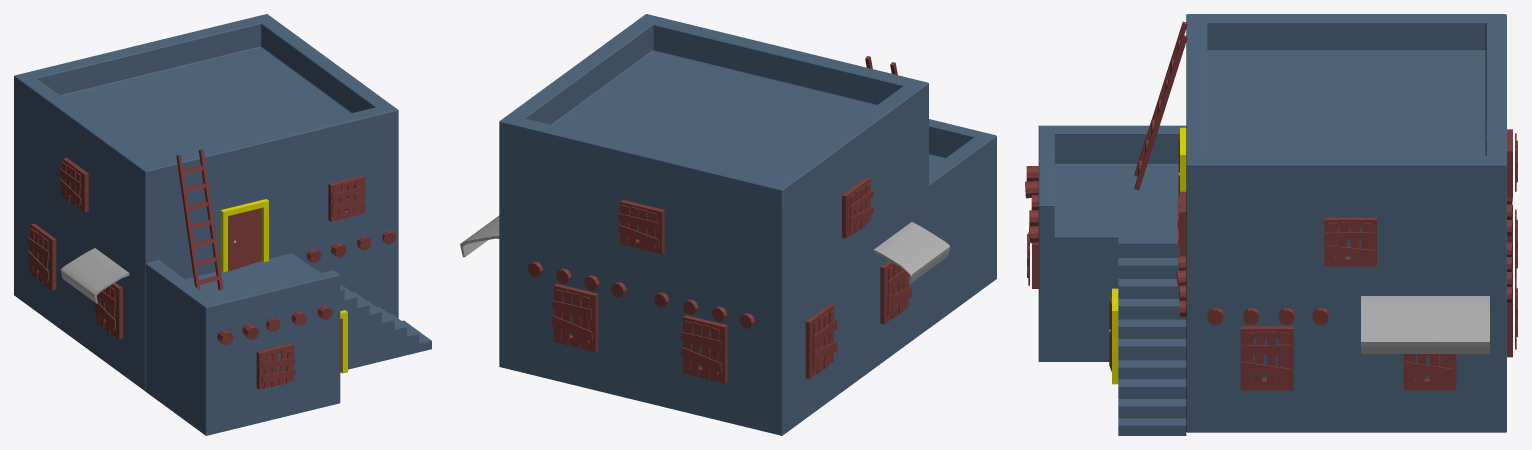
The model's file is House.fbx.
The picture shows the model from 3 angles, left to right: view 1: azimuth 30°, elevation 25°; view 2: azimuth 150°, elevation 25°; view 3: azimuth 270°, elevation 25°; orthographic projection. The views are drawn at different scales.
Visible parts, largest first — view 1: polySurface318; view 2: polySurface318; view 3: polySurface318.
Part boxes in pixels (<box>): polySurface318: <box>14,14,431,435</box>; polySurface318: <box>460,14,996,435</box>; polySurface318: <box>1025,14,1517,435</box>.
Size of the model in its own units: 0.9466 by 0.6285 by 1.01.
